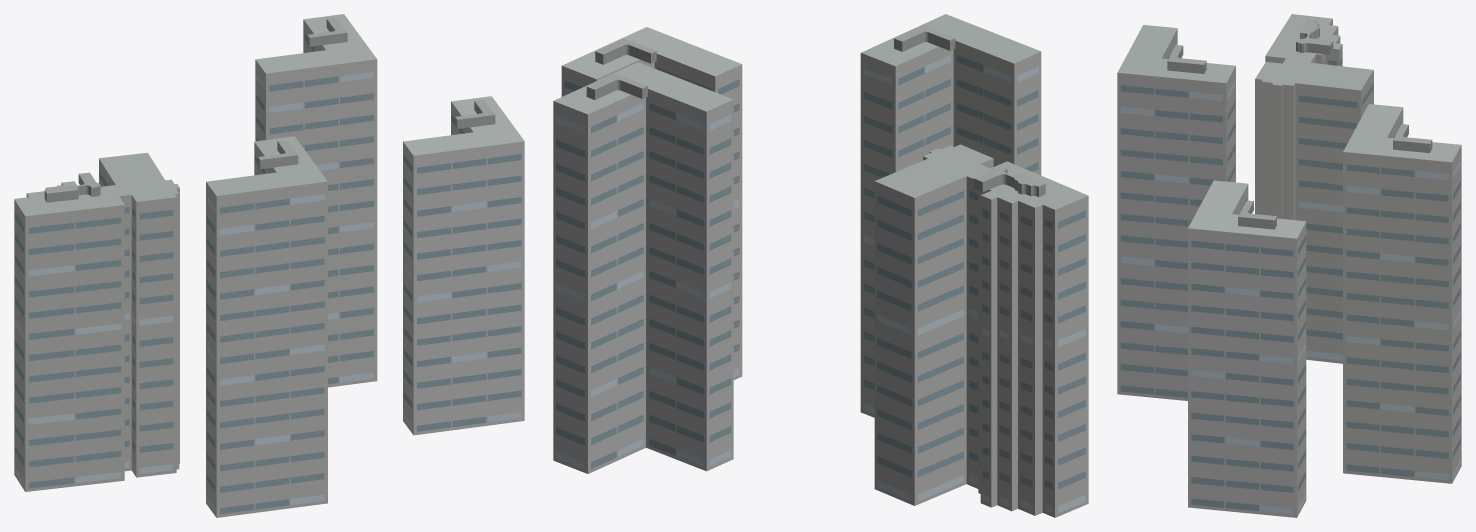
The model's file is apt-a13501006.glb.
3 renders of one model, left to right at view 1: azimuth 30°, elevation 25°; view 2: azimuth 150°, elevation 25°; view 3: azimuth 270°, elevation 25°, orthographic. The views are drawn at different scales.
Parts seen in each view (by area): view 1: apt-a13501006; view 2: apt-a13501006; view 3: apt-a13501006.
Boxes of the visible parts, box(x1,y1,x2,y2) form: apt-a13501006: box(14, 14, 524, 517); apt-a13501006: box(553, 14, 1088, 517); apt-a13501006: box(1117, 14, 1461, 517).
Bounding box in the file's own units: 127 × 86 × 81.09.
